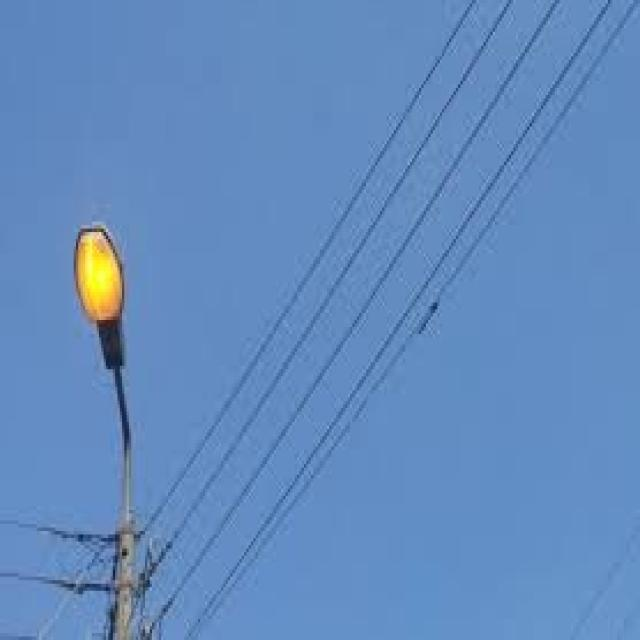Street Light: (69, 214, 142, 640)
